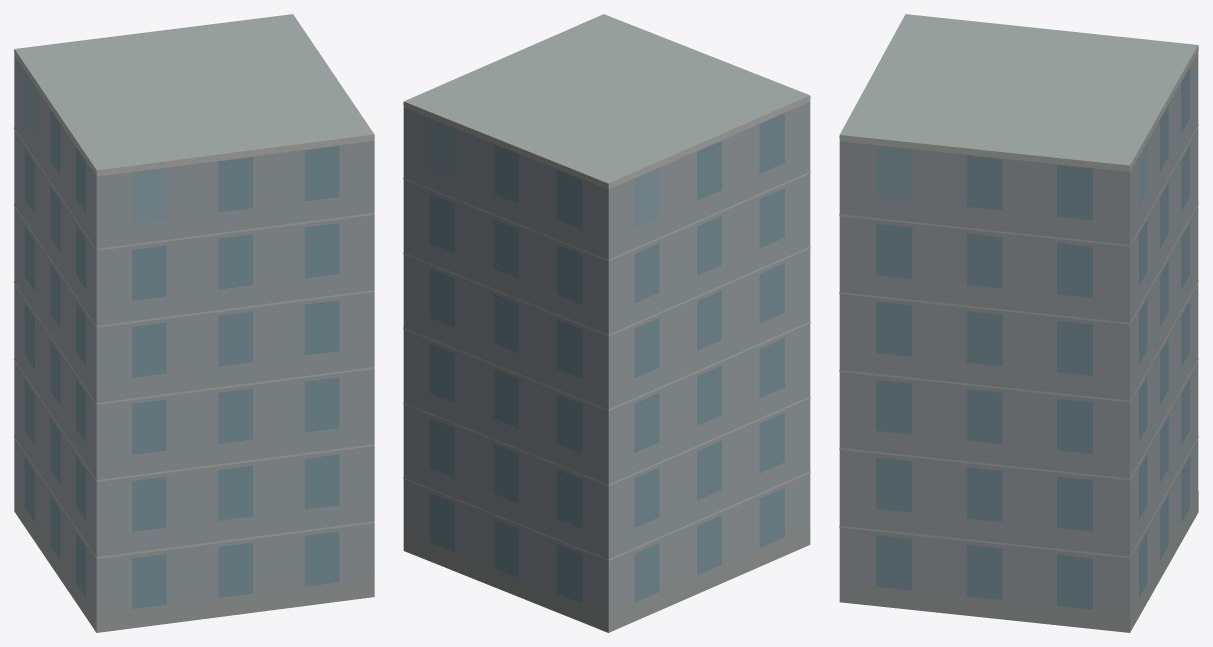
Rendered from survey-upis-32653331.glb.
3 renders of one model, left to right at view 1: azimuth 30°, elevation 25°; view 2: azimuth 150°, elevation 25°; view 3: azimuth 270°, elevation 25°, orthographic. The views are drawn at different scales.
Parts seen in each view (by area): view 1: survey-upis-32653331.tmp; view 2: survey-upis-32653331.tmp; view 3: survey-upis-32653331.tmp.
Part boxes in pixels (box(x1,y1,x2,y2)): survey-upis-32653331.tmp: box(14, 14, 374, 632); survey-upis-32653331.tmp: box(403, 14, 810, 632); survey-upis-32653331.tmp: box(839, 14, 1198, 632).
Bounding box in the file's own units: 12.51 × 17.95 × 12.52.
